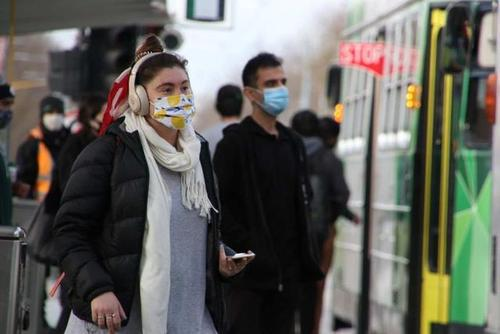mask: (144, 64, 199, 126), (250, 53, 291, 115)
